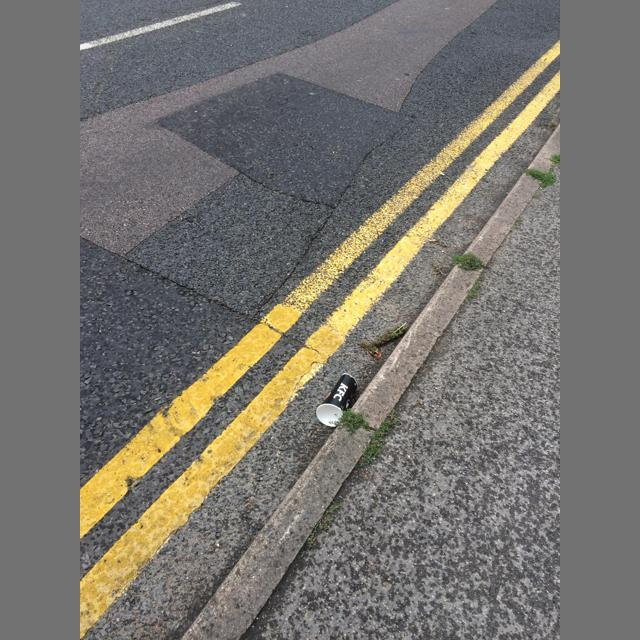litter: (316, 374, 358, 427), (428, 240, 436, 242)
